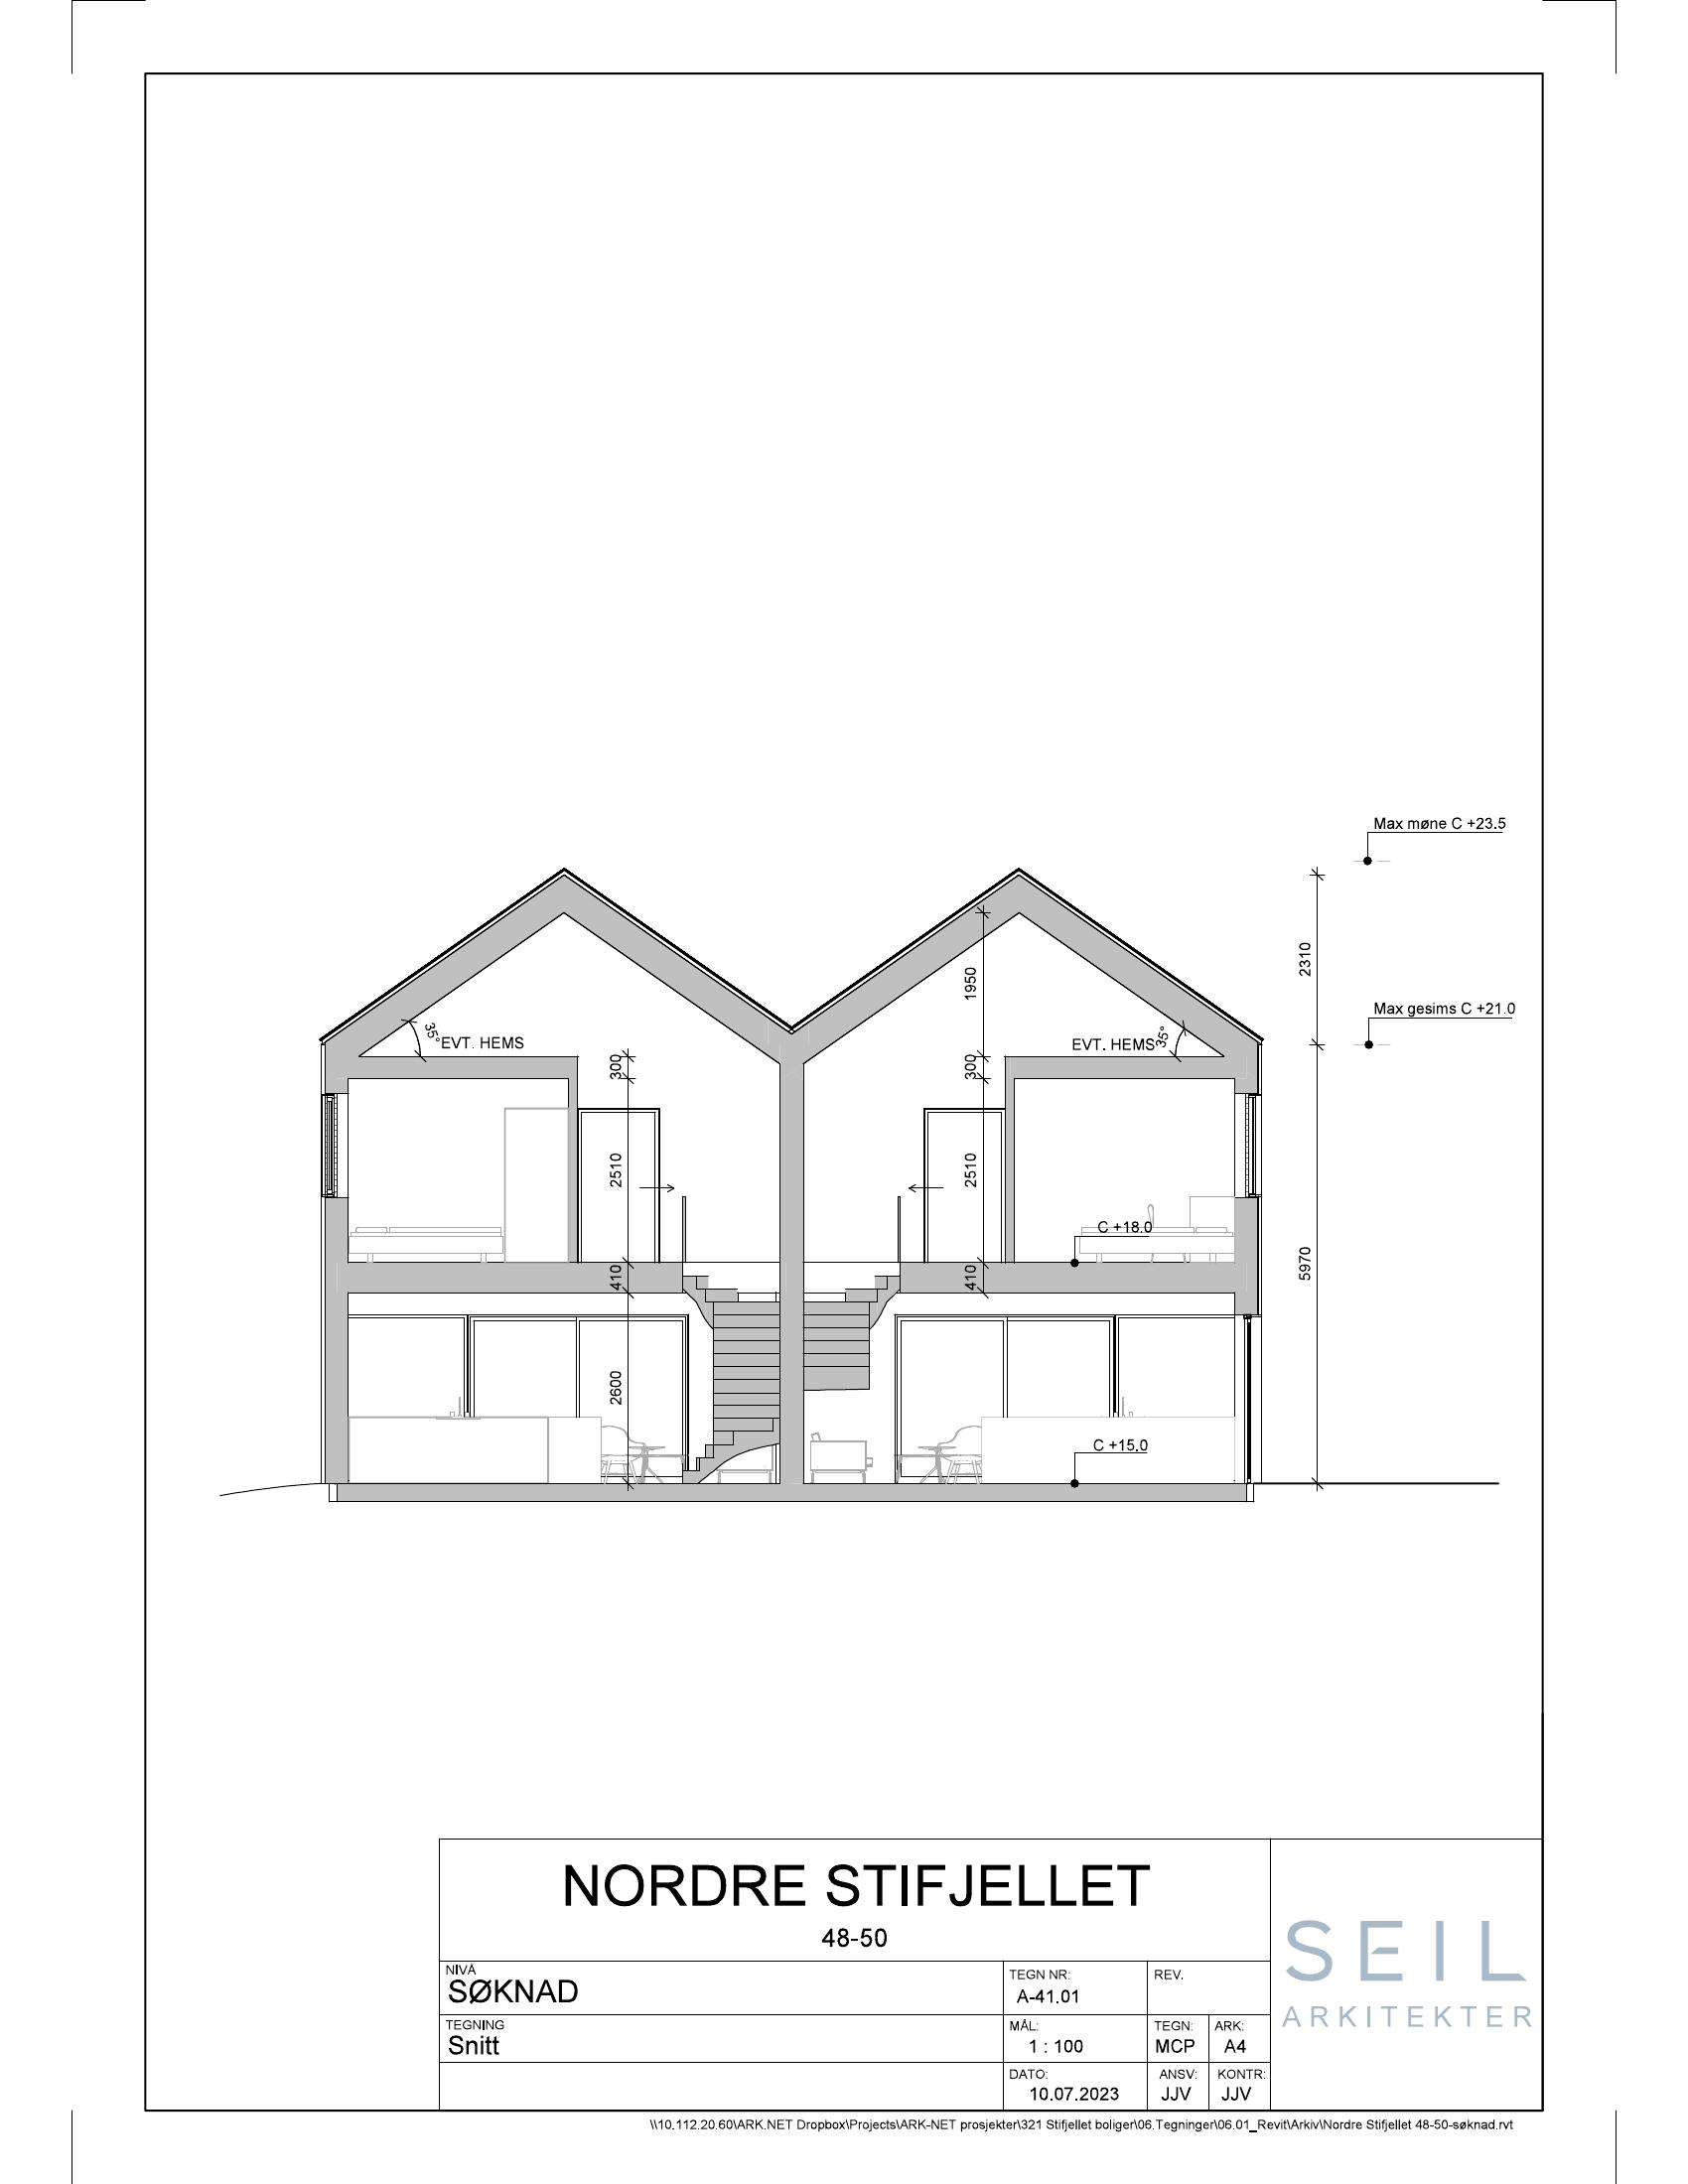snitt: (254, 812, 1362, 1512)
